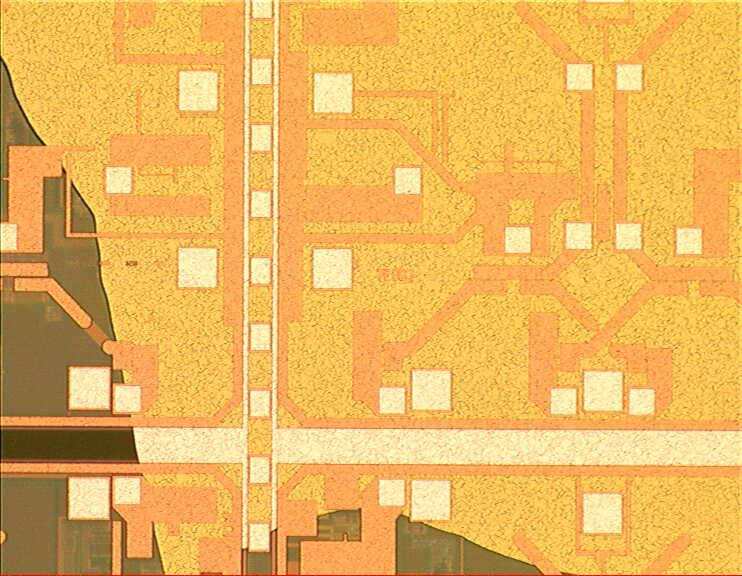BLOCK ETCH: (2, 2, 742, 576)
